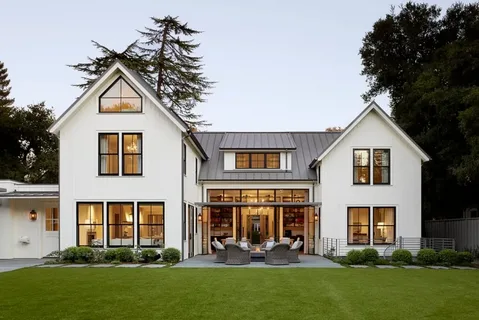private_hause: (51, 102, 428, 258)
